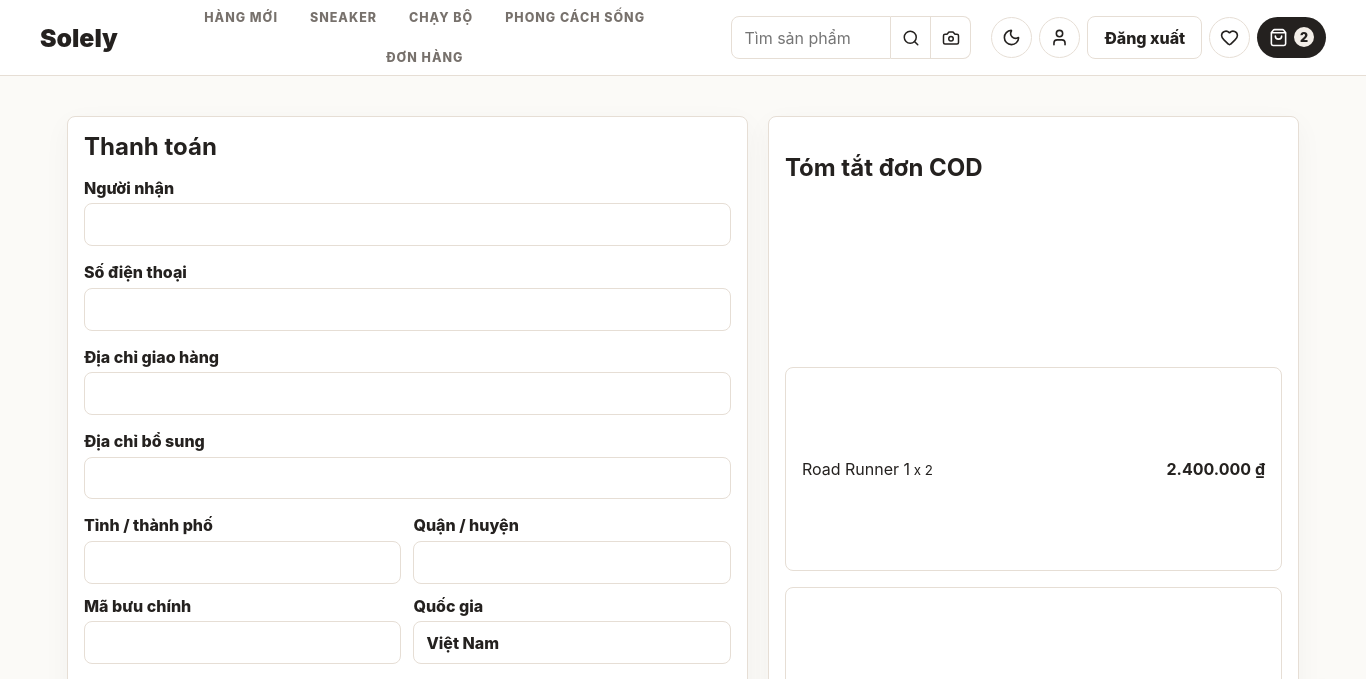
customer shopping flow › submits COD checkout
Expected: the text "Road Runner 1" is shown, x1=802 y1=459 x2=910 y2=479
Expected: the heading "Tóm tắt đơn COD" is shown, x1=785 y1=153 x2=983 y2=182
Type "Jordan Miles" into the field labelled "Người nhận" at (407, 225), box x1=84 y1=203 x2=731 y2=246
Type "5551234567" into the field labelled "Số điện thoại" at (407, 309), box x1=84 y1=288 x2=731 y2=331
Type "1 Main St" into the field labelled "Địa chỉ giao hàng" at (407, 394), box x1=84 y1=372 x2=731 y2=415
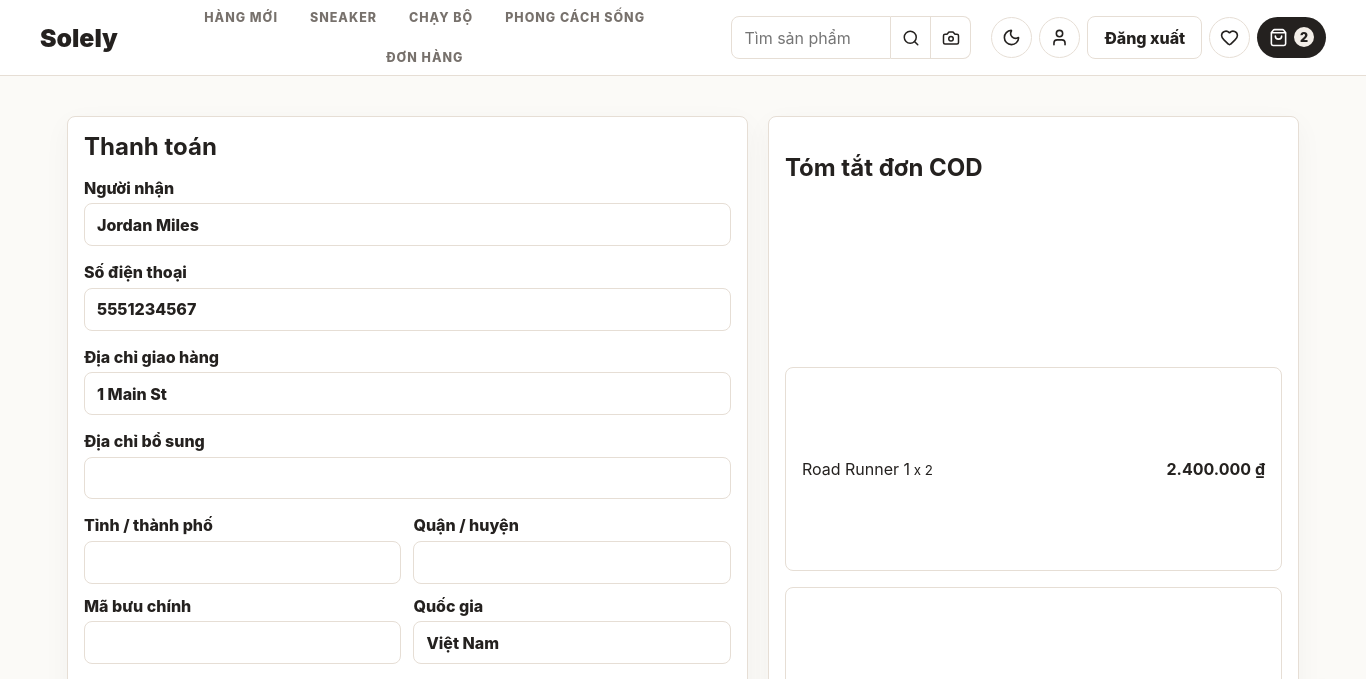
Type "Austin" into the field labelled "Tỉnh / thành phố" at (243, 562), box x1=84 y1=541 x2=401 y2=584
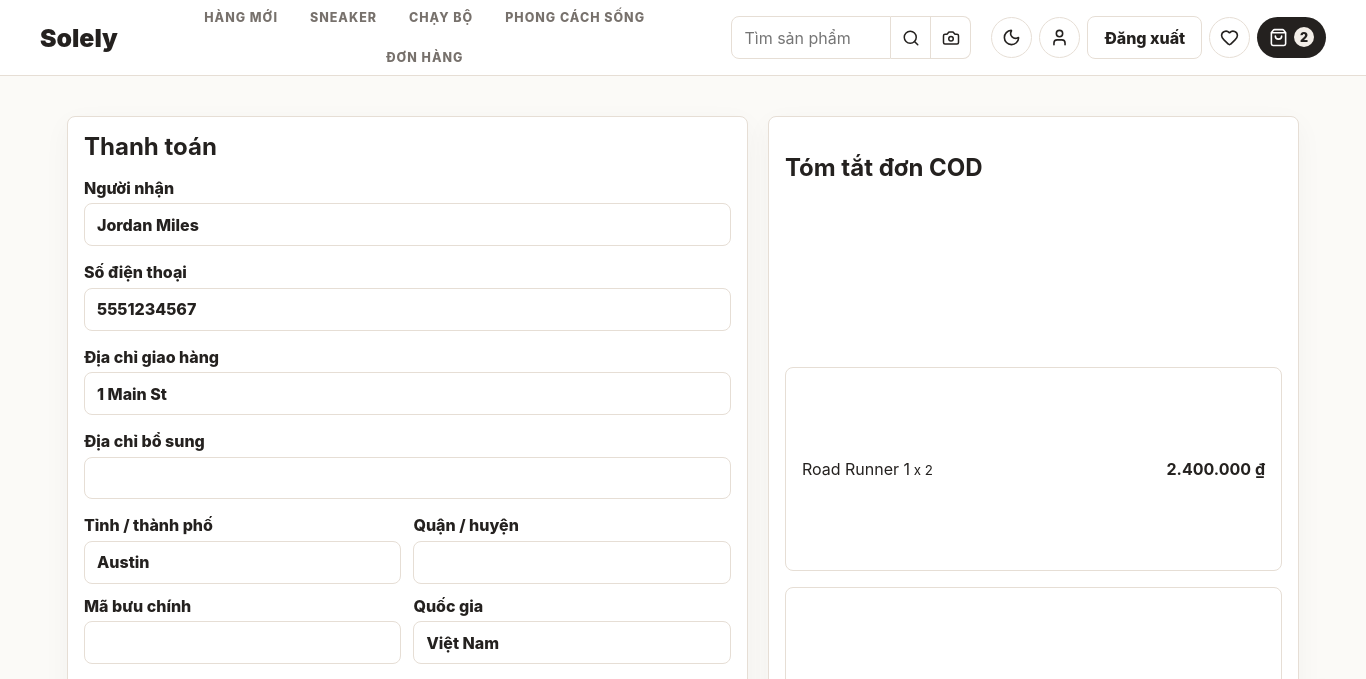
Type "TX" into the field labelled "Quận / huyện" at (572, 562), box x1=413 y1=541 x2=731 y2=584
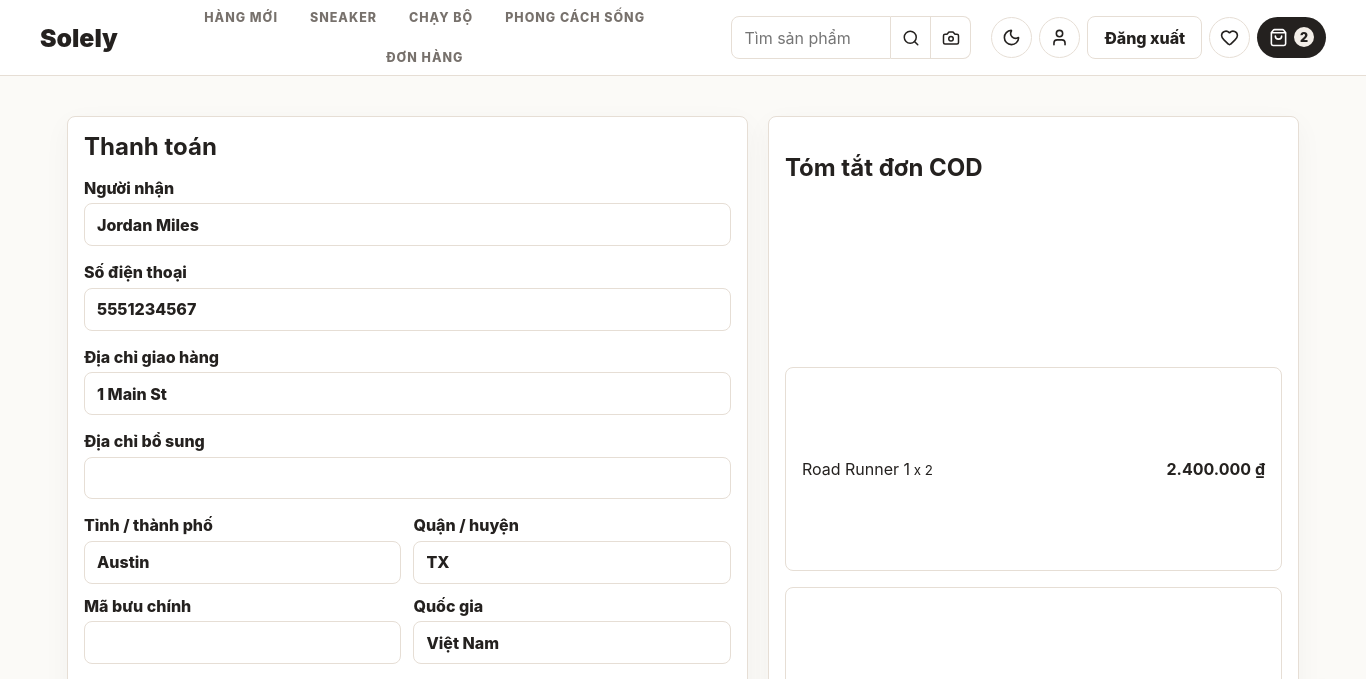
Type "78701" into the field labelled "Mã bưu chính" at (243, 643), box x1=84 y1=621 x2=401 y2=664
(page scrolled)
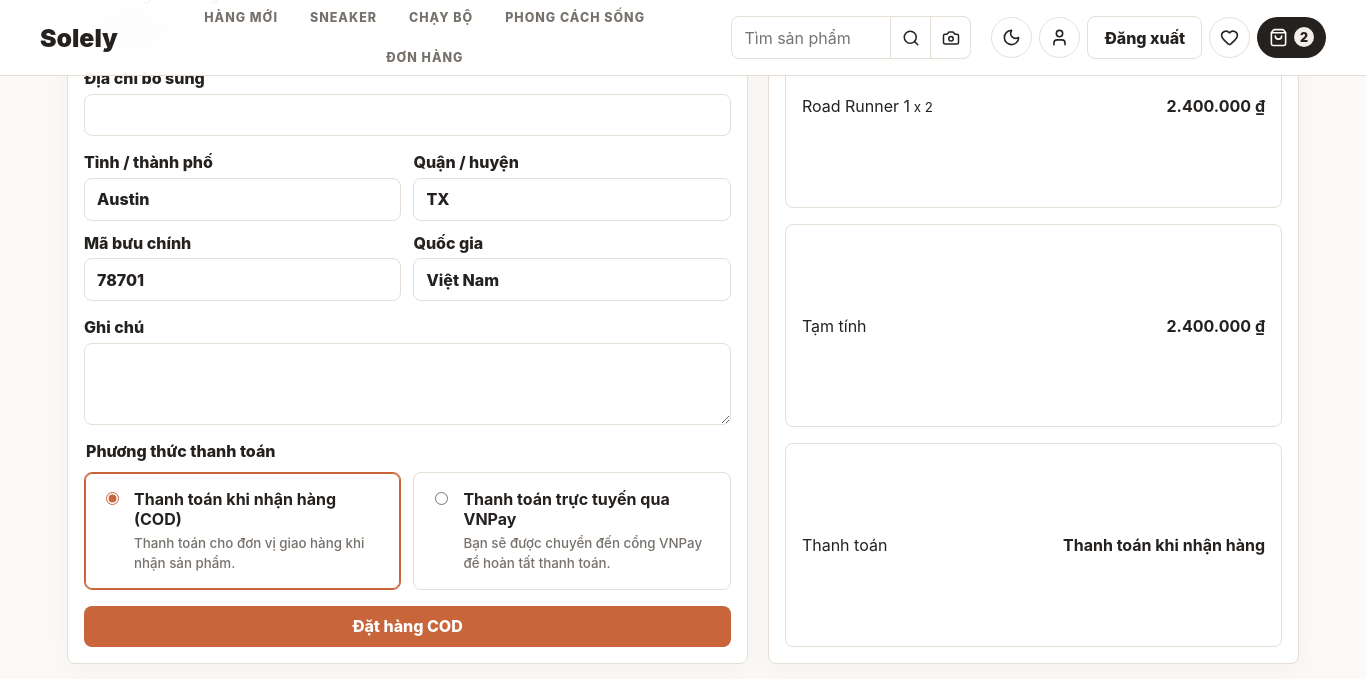
Type "Leave at door" into the text box labelled "Ghi chú" at (407, 384), box x1=84 y1=343 x2=731 y2=425
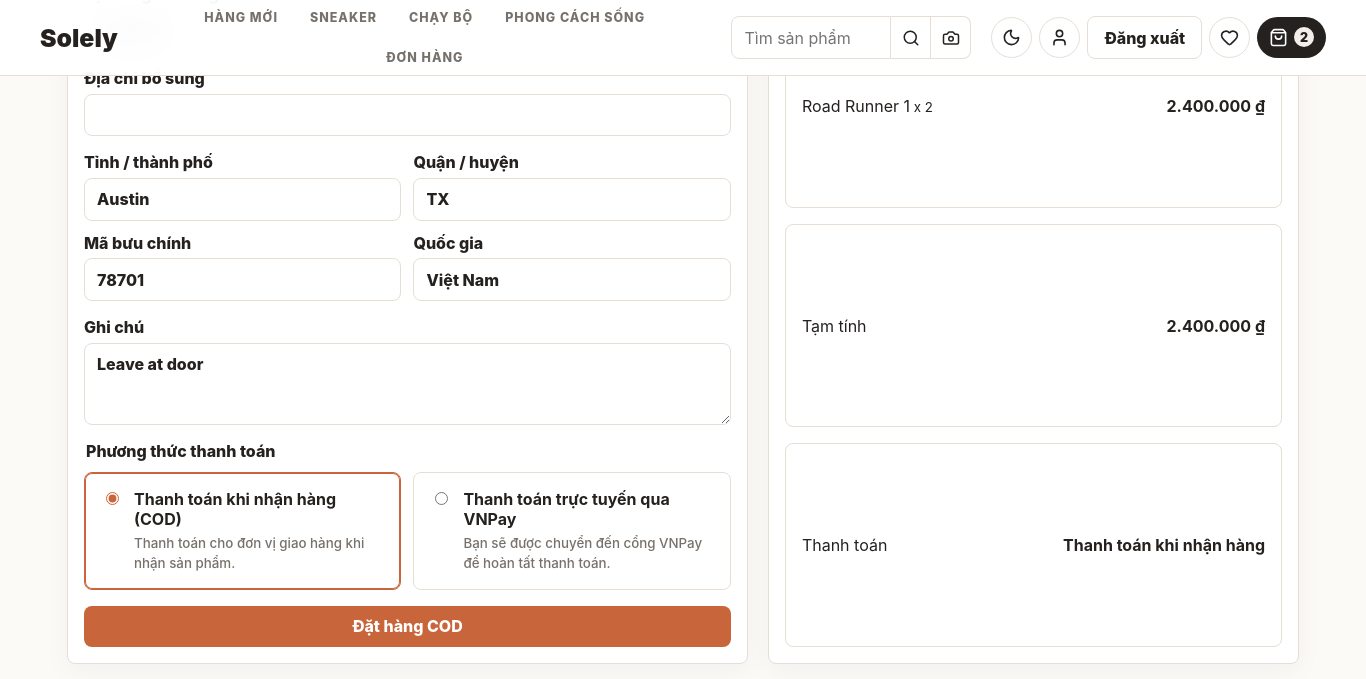
Click the button "Đặt hàng COD" at (407, 626), box x1=84 y1=606 x2=731 y2=647
(page scrolled)
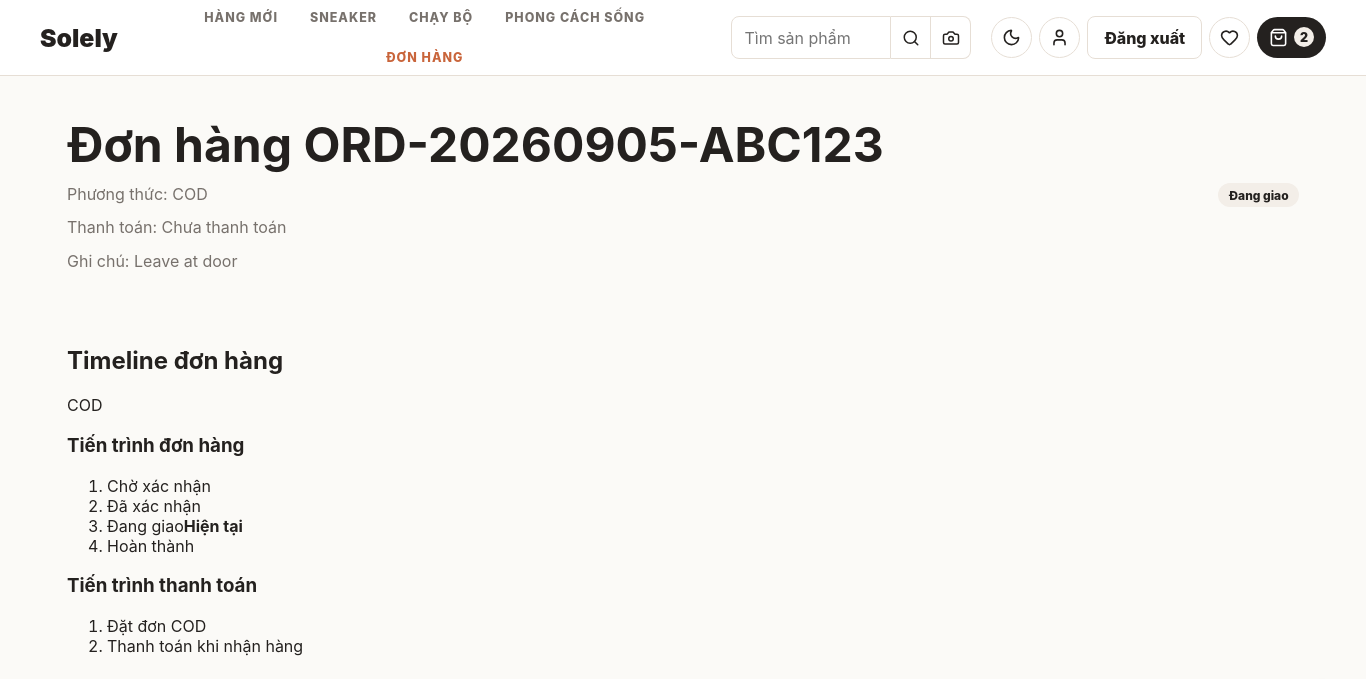
Expected: the heading "Đơn hàng ORD-20260905-ABC123" is shown, x1=67 y1=116 x2=884 y2=174
